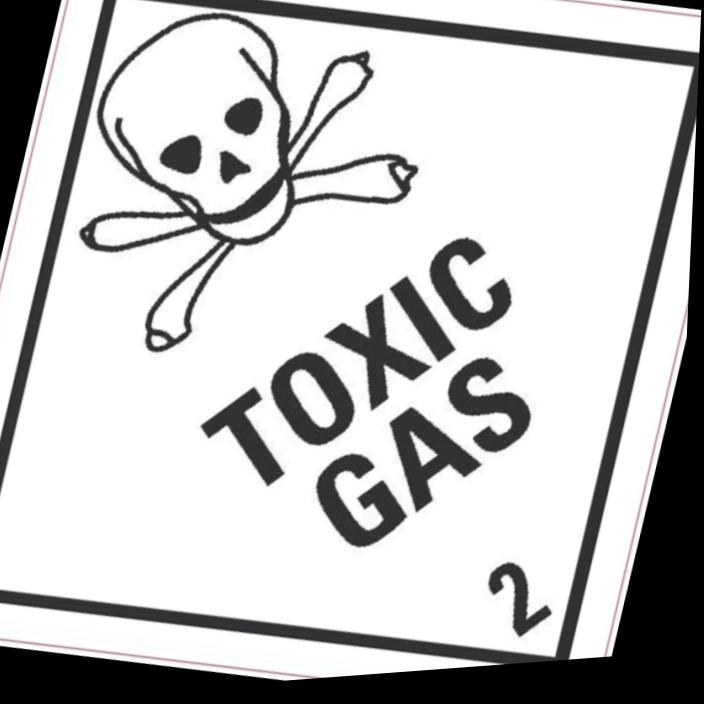camera: (0, 0, 701, 676)
